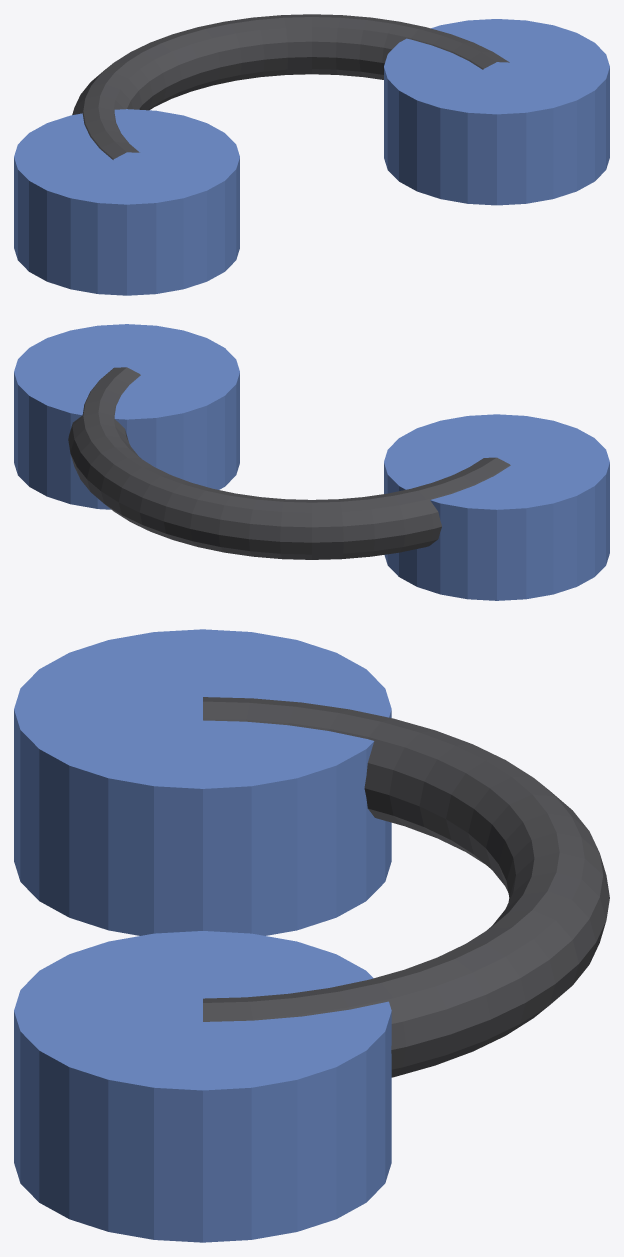
Rendered from 0-over-ear-headphones.glb.
3 renders of one model, top to bottom at view 1: azimuth 30°, elevation 25°; view 2: azimuth 150°, elevation 25°; view 3: azimuth 270°, elevation 25°, orthographic. The views are drawn at different scales.
Parts seen in each view (by area): view 1: cup-l, cup-r, headband; view 2: cup-l, cup-r, headband; view 3: cup-r, cup-l, headband.
Part boxes in pixels (box(x1,y1,x2,y2)): cup-l: box(14, 109, 239, 295); cup-r: box(384, 19, 609, 205); headband: box(72, 14, 509, 159); cup-l: box(384, 414, 609, 600); cup-r: box(14, 324, 239, 509); headband: box(68, 367, 510, 559); cup-r: box(14, 931, 391, 1242); cup-l: box(14, 629, 391, 935); headband: box(203, 697, 609, 1077).
Size of the model in its own units: 0.26 by 0.042 by 0.142.
